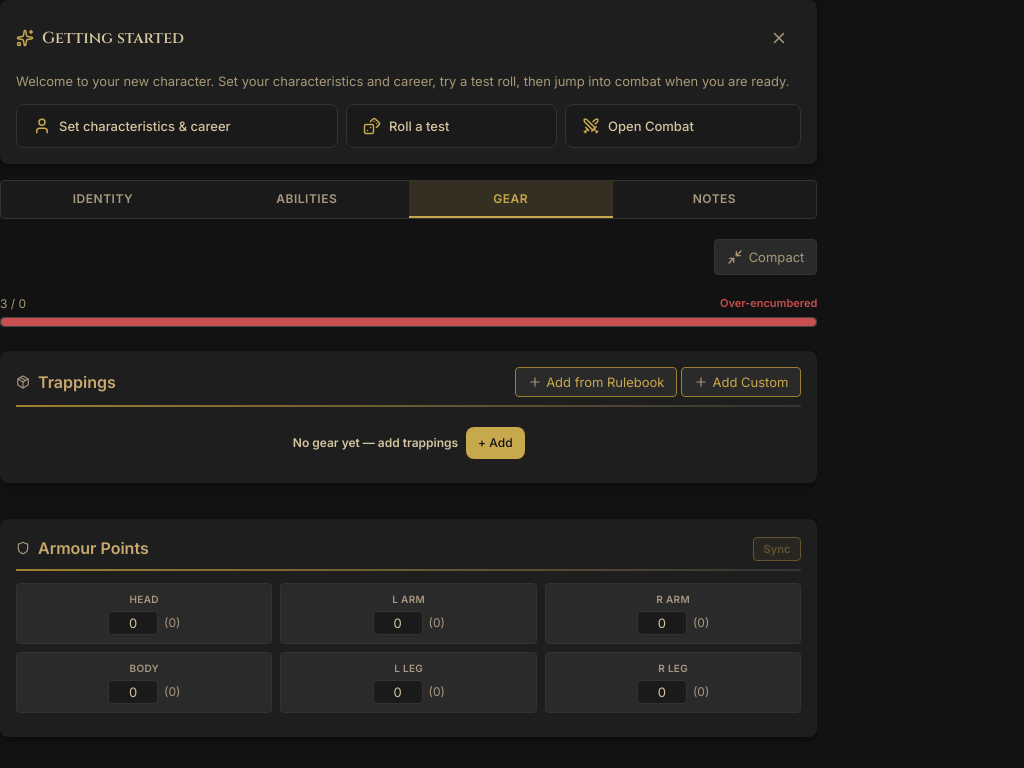
it: CharacterPage Deposit_Control (wealth-treasury-transfer Task 9) › a treasury-only change does not affect coin weight (Req 5.2)
Click the tab "Gear" at (511, 199), box [409,180,612,218]
(page scrolled)
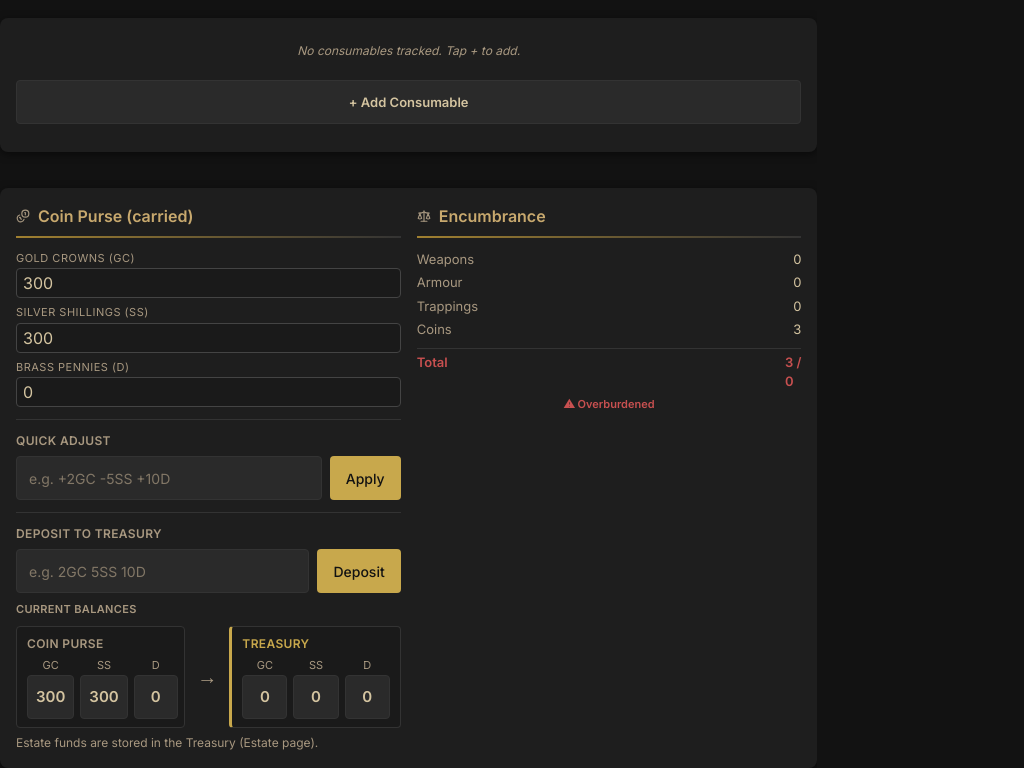
Type "100SS" into the field named "Deposit amount" at (163, 571), box [16,549,309,593]
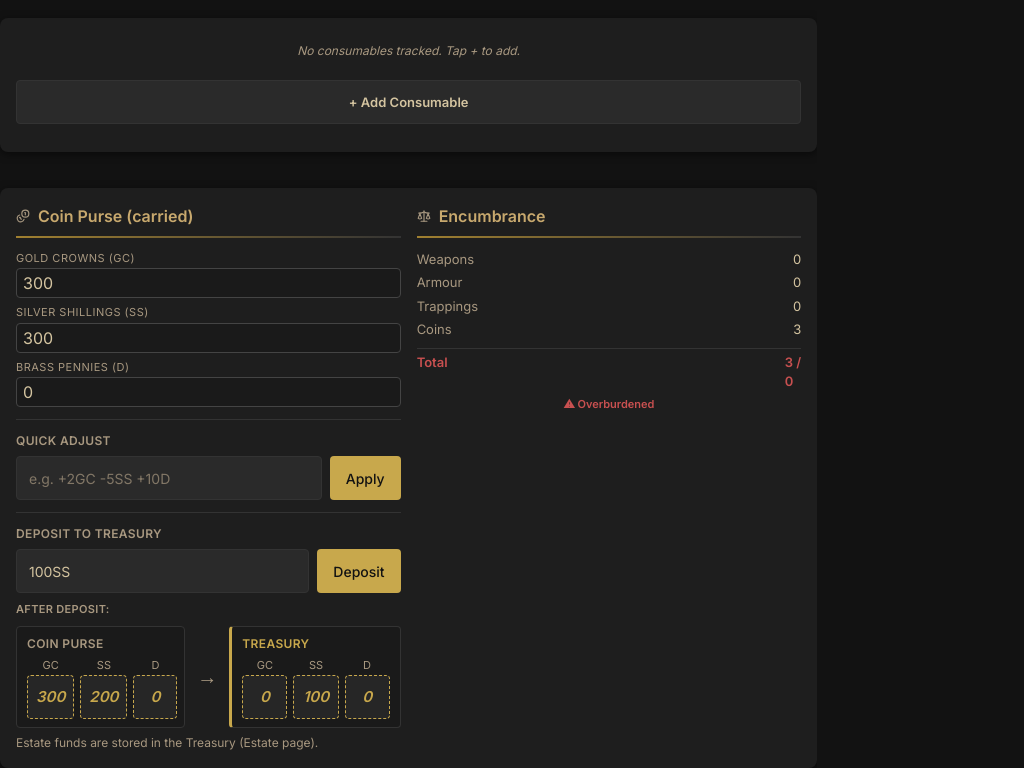
Click the button "Deposit" at (359, 571), box [317,549,401,593]
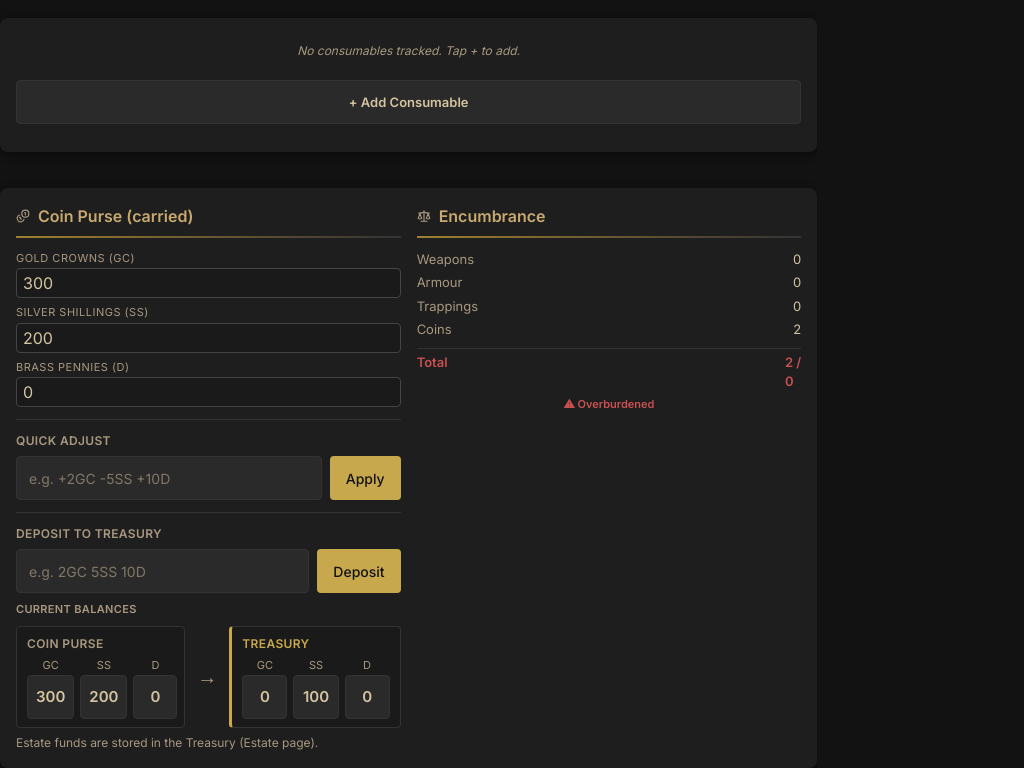
Expected: the button named "Coin weight breakdown" reads "2", [793,320,801,340]
